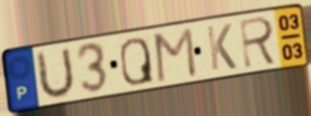3: (77, 41, 109, 97)
K: (204, 22, 239, 73)
M: (153, 25, 199, 85)
Q: (118, 35, 156, 87)
R: (237, 14, 280, 71)
U: (35, 45, 77, 103)
